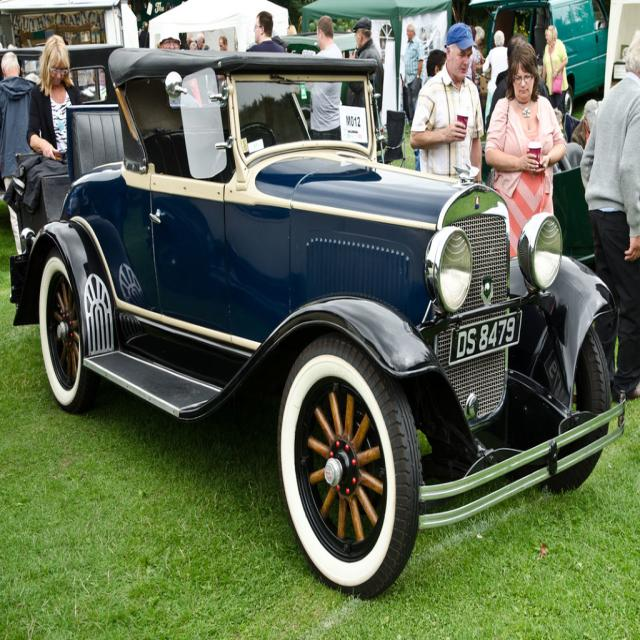car: (6, 36, 626, 601)
